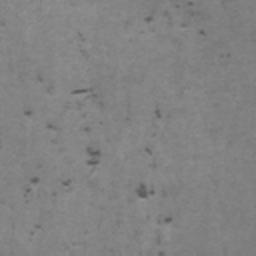Oxide scale of temperature system: (23, 70, 174, 230), (141, 0, 207, 38), (152, 108, 164, 118), (159, 250, 166, 256)
